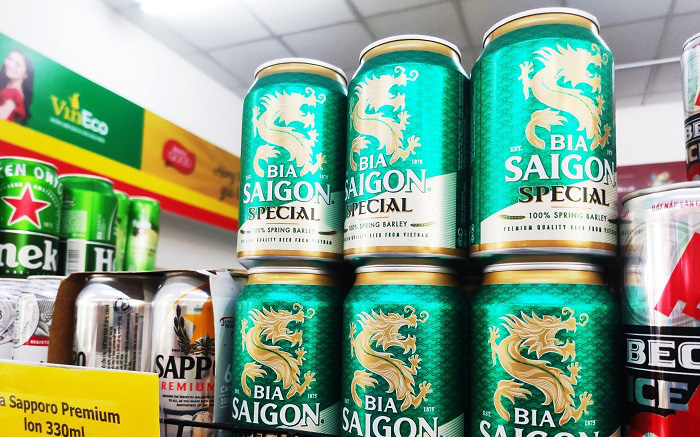biasaigon: (502, 135, 618, 186), (232, 383, 322, 430), (342, 397, 440, 437), (243, 165, 332, 204), (344, 155, 426, 197)
